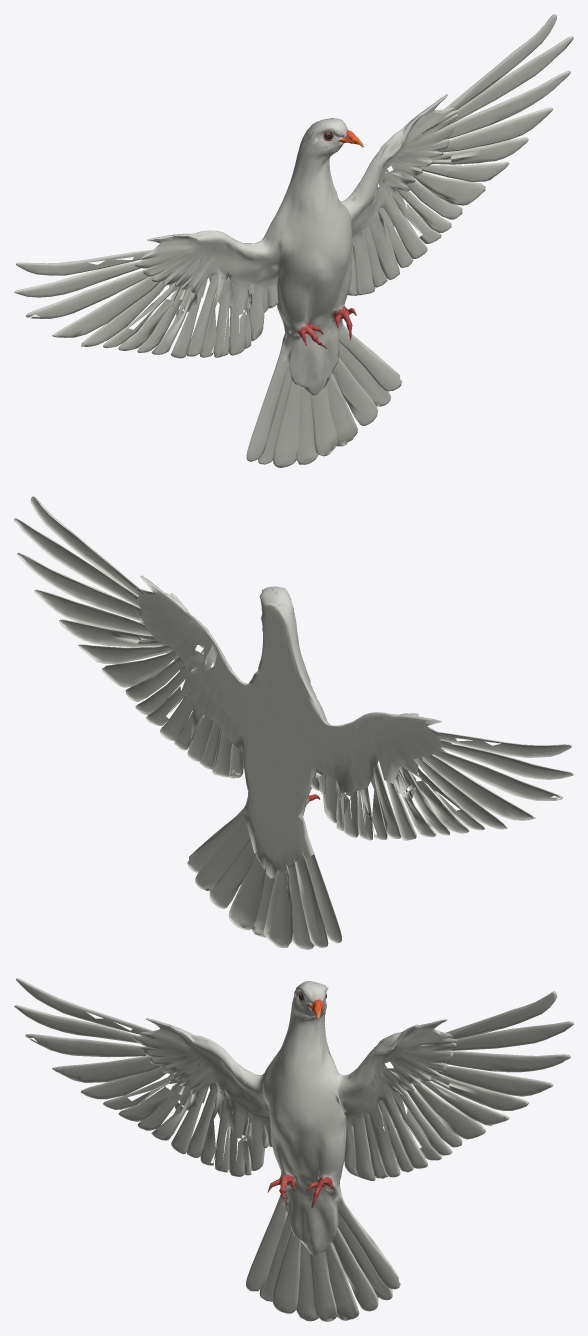
File: chim-bo-cau-3d.glb
The picture shows the model from 3 angles, top to bottom: view 1: azimuth 30°, elevation 25°; view 2: azimuth 150°, elevation 25°; view 3: azimuth 330°, elevation 25°; orthographic projection.
Bounding box in the file's own units: 0.9565 × 0.6377 × 0.0737.
1 material, 1 textured.
